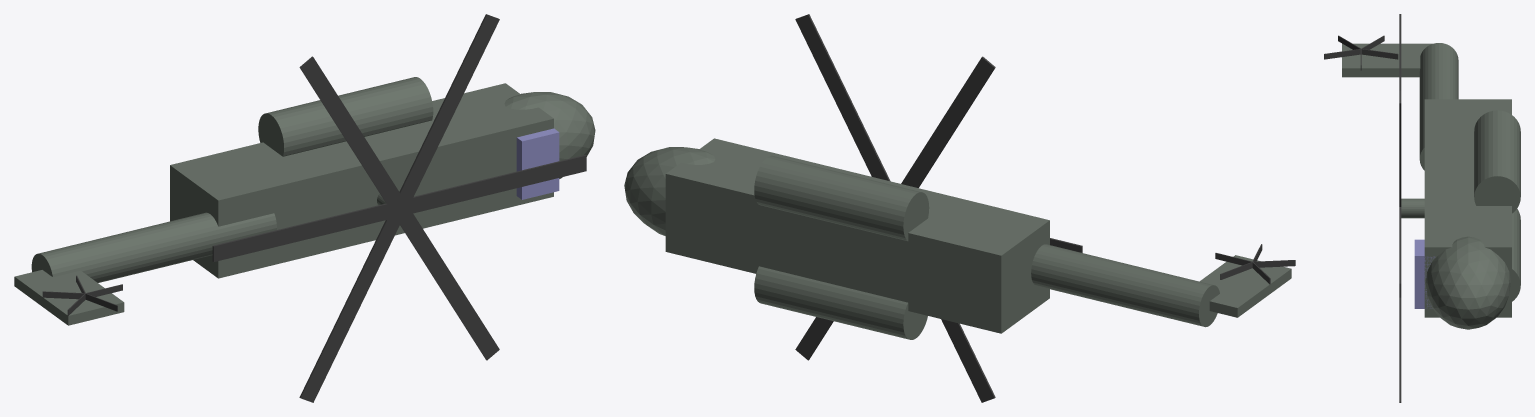
The model's file is Z-8L_Helicopter.glb.
The picture shows the model from 3 angles, left to right: view 1: azimuth 30°, elevation 25°; view 2: azimuth 150°, elevation 25°; view 3: azimuth 270°, elevation 25°; orthographic projection. The views are drawn at different scales.
Parts seen in each view (by area): view 1: world; view 2: world; view 3: world.
Boxes of the visible parts, box(x1,y1,x2,y2) form: world: box(14, 14, 595, 402); world: box(624, 14, 1295, 402); world: box(1324, 14, 1520, 402).
Size of the model in its own units: 31.93 by 17.72 by 10.11.
